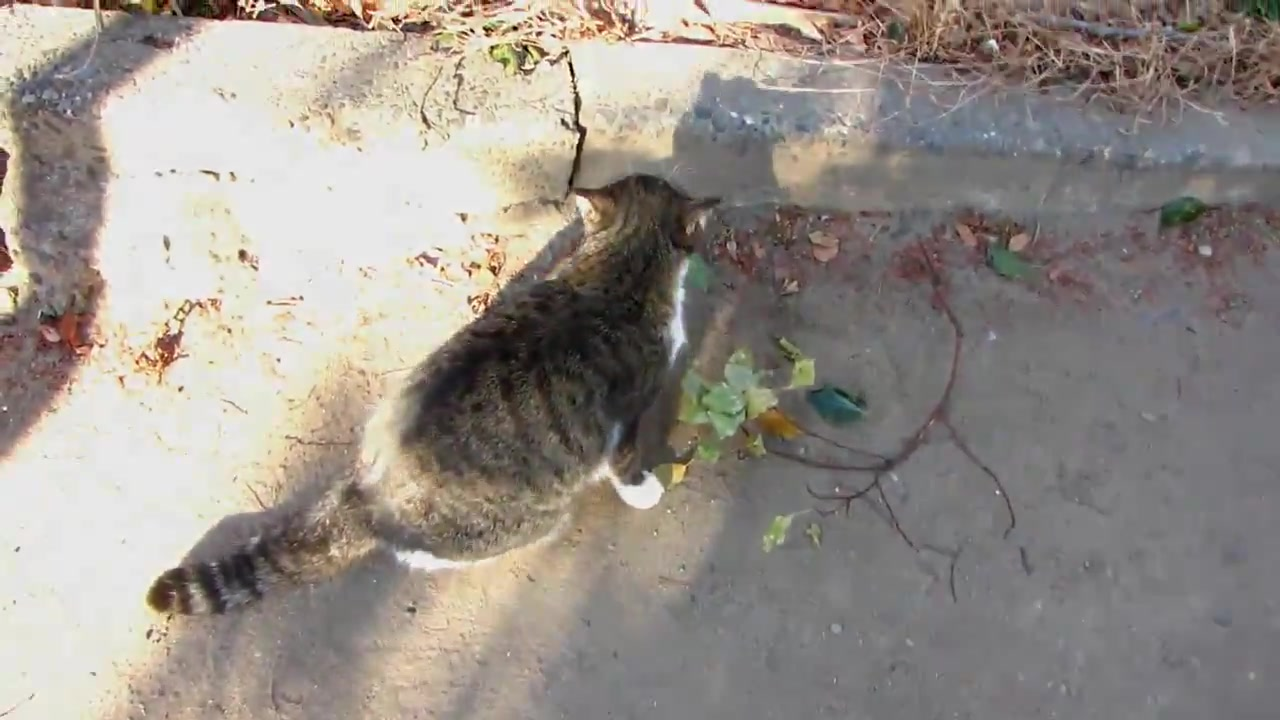cat: (149, 166, 724, 619)
